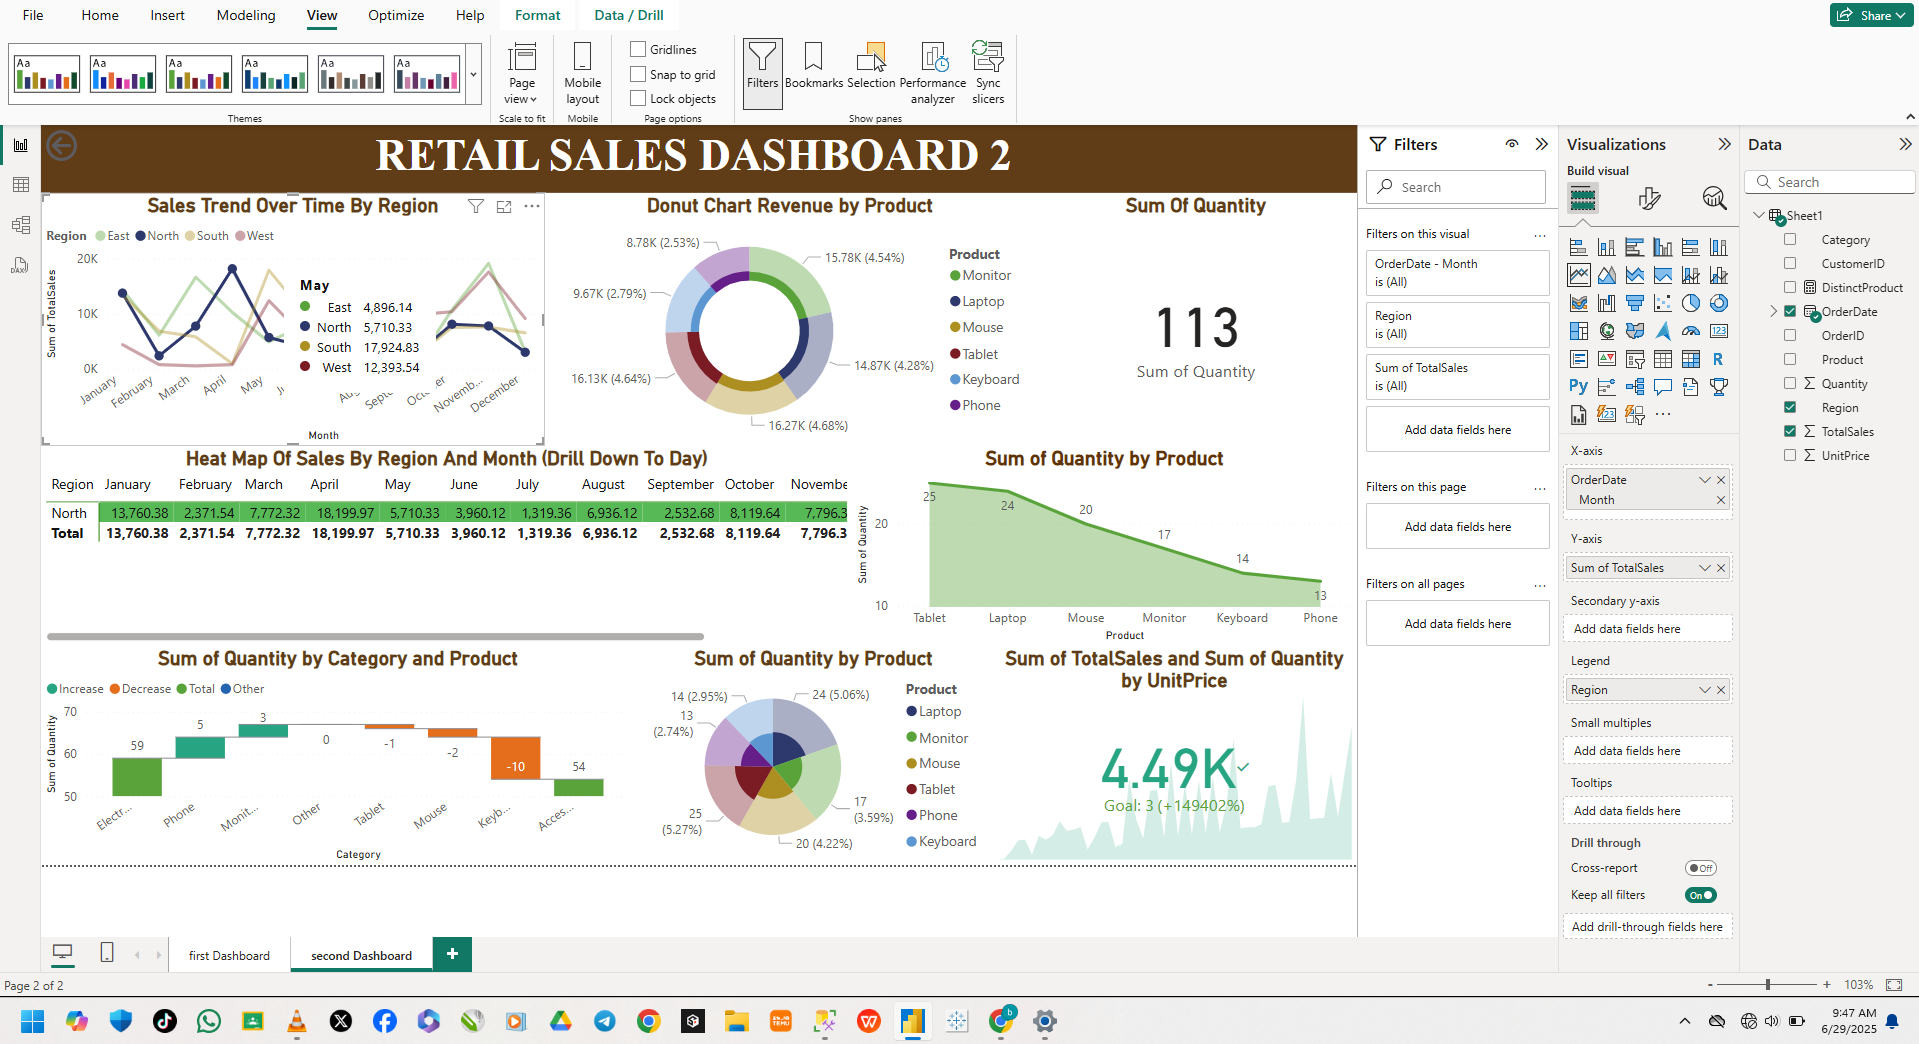

The page's visual inventory and layout, read from the dashboard file:
{"tool":"powerbi","page":{"name":"second Dashboard","canvas":[1280,720],"ordinal":1},"visuals":[{"type":"textbox","box":[0,0,1280,66.1],"z":0},{"type":"lineChart","title":"Sales Trend Over Time By Region","fields":{"Category":["Sheet1.OrderDate.Variation.Date Hierarchy.Month"],"Series":["Sheet1.Region"],"Y":["Sum(Sheet1.TotalSales)"]},"box":[0,66.1,490.2,246.1],"z":1000},{"type":"card","title":"Sum Of Quantity","fields":{"Values":["Sum(Sheet1.Quantity)"]},"box":[966.8,66.1,313.2,246.1],"z":2000},{"type":"pivotTable","title":"Heat Map Of Sales By Region And Month (Drill Down To Day)","fields":{"Rows":["Sheet1.Region"],"Columns":["Sheet1.OrderDate.Variation.Date Hierarchy.Month","Sheet1.OrderDate.Variation.Date Hierarchy.Day"],"Values":["Sum(Sheet1.TotalSales)"]},"box":[0,312.2,788.8,194.5],"z":3000},{"type":"actionButton","box":[0,0,100,40],"z":4000},{"type":"donutChart","title":"Donut Chart Revenue by Product","fields":{"Category":["Sheet1.Product"],"Y":["Sum(Sheet1.TotalSales)"]},"box":[490.2,66.1,476.6,246.1],"z":5000},{"type":"areaChart","fields":{"Category":["Sheet1.Product"],"Y":["Sum(Sheet1.Quantity)"]},"box":[788.8,312.2,491.2,194.5],"z":6000},{"type":"waterfallChart","fields":{"Category":["Sheet1.Category"],"Breakdown":["Sheet1.Product"],"Y":["Sum(Sheet1.Quantity)"]},"box":[0,506.7,577.8,213],"z":7000},{"type":"kpi","fields":{"Indicator":["Sum(Sheet1.TotalSales)"],"Goal":["Sum(Sheet1.Quantity)"],"TrendLine":["Sheet1.UnitPrice"]},"box":[925,506.7,355,213],"z":8000},{"type":"pieChart","fields":{"Category":["Sheet1.Product"],"Y":["Sum(Sheet1.Quantity)"]},"box":[577.8,506.7,347.2,213],"z":8001}]}

Visuals, with their boxes on the page's 1280x720 design canvas (x1, y1, x2, y2). These are canvas units, not pixel positions in the 1919x1044 screenshot, which may show the page scaled, cropped or inside an application window:
textbox: region(0, 0, 1280, 66)
"Sales Trend Over Time By Region" lineChart: region(0, 66, 490, 312)
"Sum Of Quantity" card: region(967, 66, 1280, 312)
"Heat Map Of Sales By Region And Month (Drill Down To Day)" pivotTable: region(0, 312, 789, 507)
actionButton: region(0, 0, 100, 40)
"Donut Chart Revenue by Product" donutChart: region(490, 66, 967, 312)
areaChart - Sheet1.Product x Sum(Sheet1.Quantity): region(789, 312, 1280, 507)
waterfallChart - Sheet1.Category x Sheet1.Product: region(0, 507, 578, 720)
kpi - Sum(Sheet1.TotalSales) x Sum(Sheet1.Quantity): region(925, 507, 1280, 720)
pieChart - Sheet1.Product x Sum(Sheet1.Quantity): region(578, 507, 925, 720)
